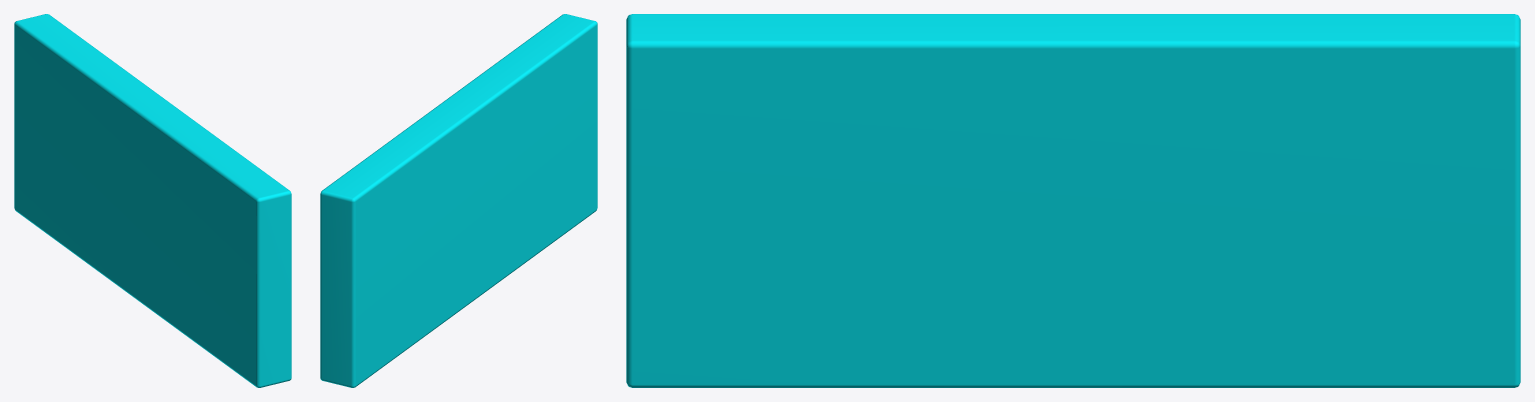
The model's file is aero_front_splitter_winglet_r.glb.
3 renders of one model, left to right at view 1: azimuth 30°, elevation 25°; view 2: azimuth 150°, elevation 25°; view 3: azimuth 270°, elevation 25°, orthographic. The views are drawn at different scales.
Visible parts, largest first — view 1: AERO_Front_Splitter_Winglet_R; view 2: AERO_Front_Splitter_Winglet_R; view 3: AERO_Front_Splitter_Winglet_R.
Boxes of the visible parts, <box> form: AERO_Front_Splitter_Winglet_R: <box>14,14,291,387</box>; AERO_Front_Splitter_Winglet_R: <box>320,14,597,387</box>; AERO_Front_Splitter_Winglet_R: <box>626,14,1520,387</box>.
Size of the model in its own units: 0.035 by 0.18 by 0.42.
